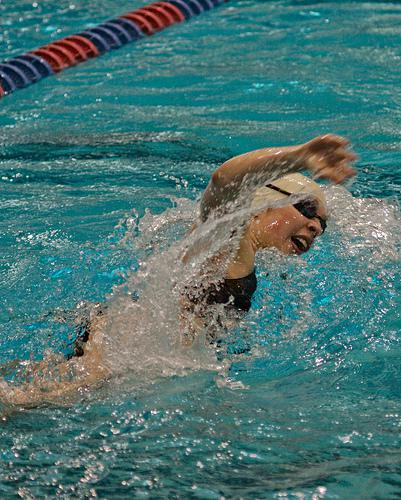swimmer: (9, 130, 359, 412)
